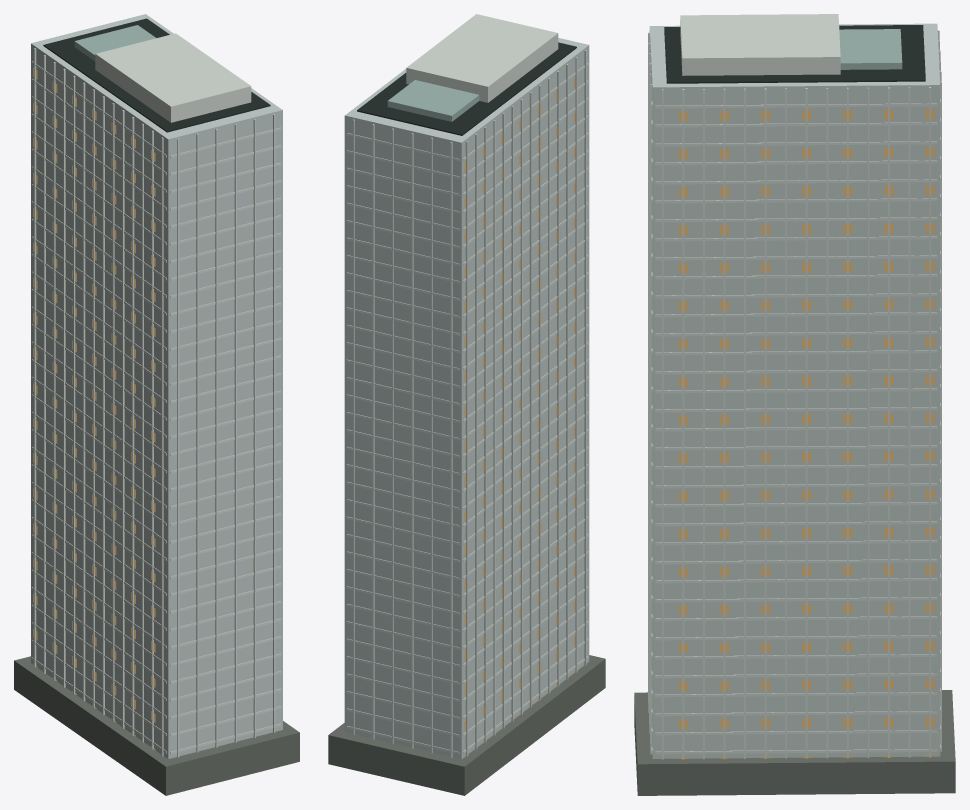
Rendered from hytera-hq.glb.
The picture shows the model from 3 angles, left to right: view 1: azimuth 30°, elevation 25°; view 2: azimuth 150°, elevation 25°; view 3: azimuth 270°, elevation 25°; orthographic projection. The views are drawn at different scales.
Parts seen in each view (by area): view 1: envelope, fins, floor_bands, podium, crown_slant, night_windows, roof_deck, crown_slant.001; view 2: envelope, fins, floor_bands, podium, crown_slant, night_windows, roof_deck, crown_slant.001; view 3: envelope, floor_bands, fins, podium, night_windows, crown_slant, roof_deck, crown_slant.001.
Part boxes in pixels (x1=…): envelope: x1=31, y1=14, x2=282, y2=758; fins: x1=33, y1=48, x2=275, y2=757; floor_bands: x1=31, y1=61, x2=281, y2=753; podium: x1=14, y1=656, x2=299, y2=795; crown_slant: x1=95, y1=33, x2=251, y2=122; night_windows: x1=33, y1=67, x2=155, y2=750; roof_deck: x1=43, y1=18, x2=270, y2=132; crown_slant.001: x1=74, y1=25, x2=156, y2=61; envelope: x1=344, y1=38, x2=589, y2=759; fins: x1=353, y1=50, x2=586, y2=757; floor_bands: x1=346, y1=63, x2=588, y2=754; podium: x1=328, y1=655, x2=605, y2=795; crown_slant: x1=406, y1=14, x2=558, y2=102; night_windows: x1=464, y1=76, x2=577, y2=757; roof_deck: x1=357, y1=42, x2=576, y2=135; crown_slant.001: x1=387, y1=80, x2=479, y2=121; envelope: x1=649, y1=23, x2=940, y2=758; floor_bands: x1=651, y1=99, x2=940, y2=754; fins: x1=648, y1=30, x2=941, y2=759; podium: x1=634, y1=690, x2=955, y2=795; night_windows: x1=678, y1=109, x2=934, y2=758; crown_slant: x1=680, y1=14, x2=840, y2=75; roof_deck: x1=664, y1=25, x2=925, y2=83; crown_slant.001: x1=839, y1=29, x2=902, y2=69.
Bounding box in the file's own units: 58.3 × 264 × 107.
